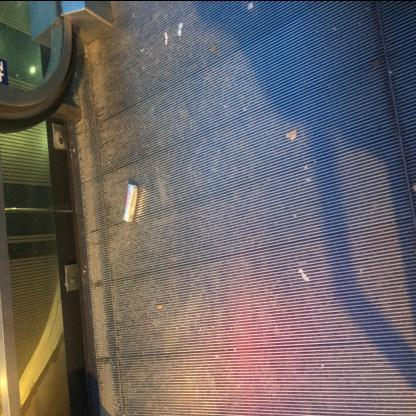metal: (123, 184, 141, 223)
